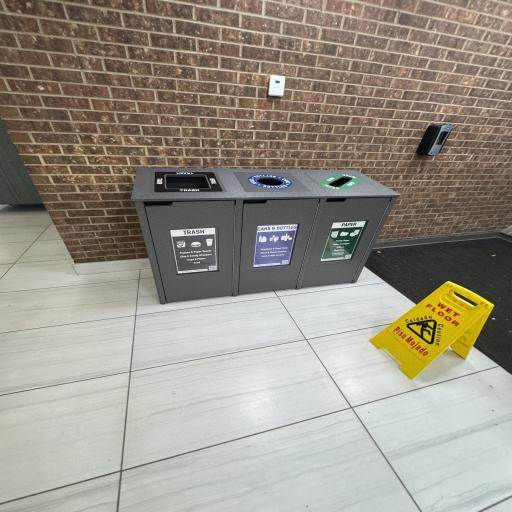can and bottle trash cans: (230, 163, 296, 313)
paper trash can: (302, 162, 371, 291)
trash can: (148, 160, 226, 306)
